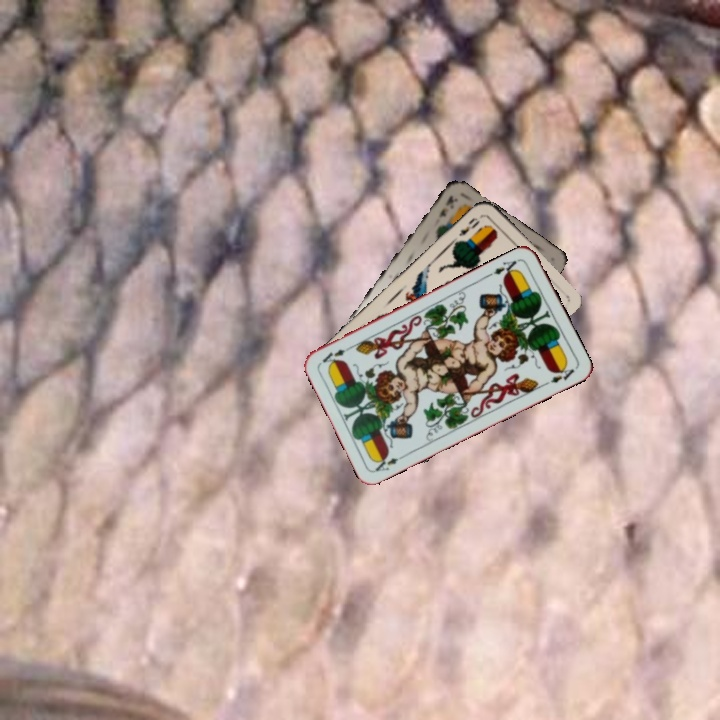EA: (371, 450, 409, 474), (489, 256, 521, 280)
EK: (435, 191, 459, 220)
EO: (455, 213, 482, 239)
